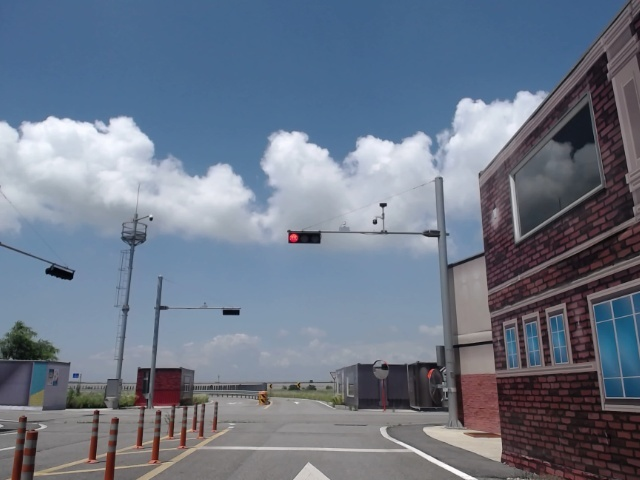red_3: (288, 230, 322, 244)
